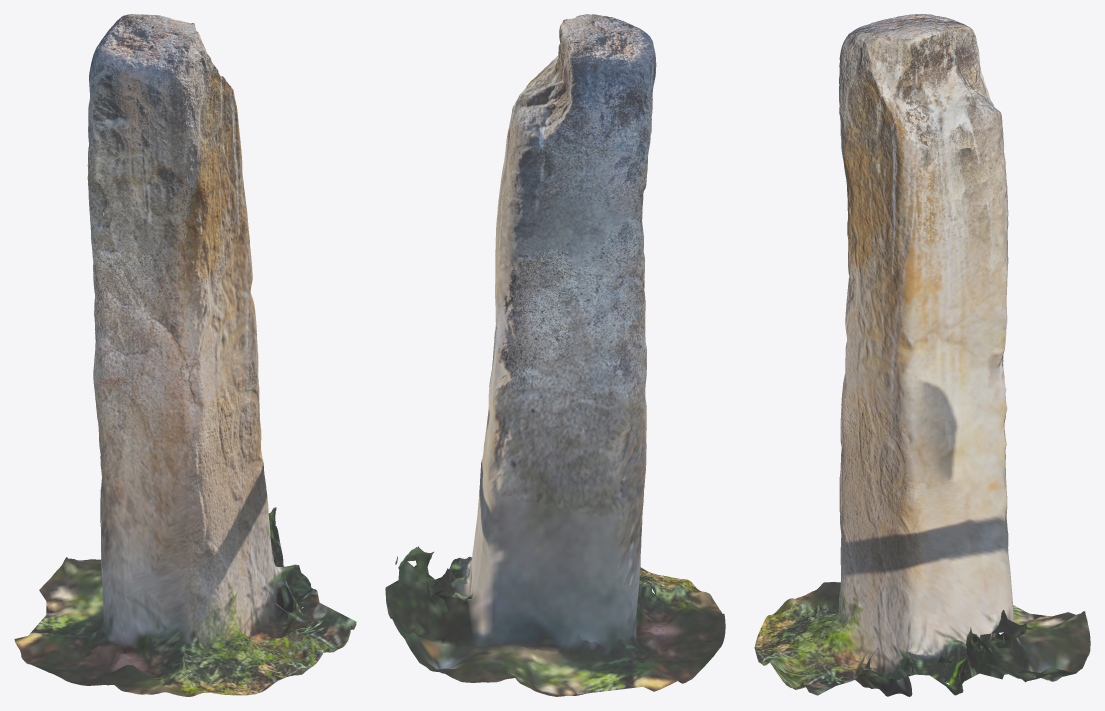
Rendered from arboorog.glb.
3 renders of one model, left to right at view 1: azimuth 30°, elevation 25°; view 2: azimuth 150°, elevation 25°; view 3: azimuth 270°, elevation 25°, orthographic.
Parts seen in each view (by area): view 1: Object_2, Object_3; view 2: Object_2, Object_3; view 3: Object_2, Object_3.
Boxes of the visible parts, left/top/right/bottom form: Object_2: left=28, top=14, right=356, bottom=696; Object_3: left=14, top=25, right=299, bottom=696; Object_2: left=385, top=14, right=725, bottom=696; Object_3: left=405, top=14, right=720, bottom=691; Object_2: left=754, top=14, right=1090, bottom=696; Object_3: left=773, top=20, right=1010, bottom=690.
Size of the model in its own units: 0.9365 by 1.96 by 0.9669.
1 material, 1 textured.
